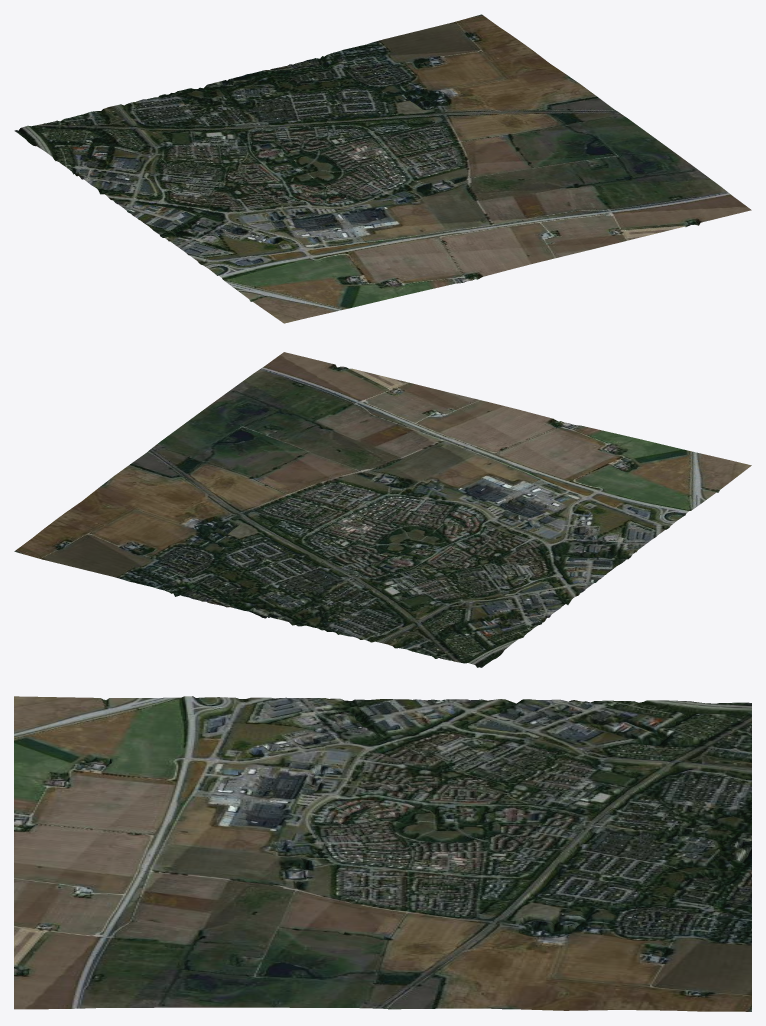
File: map_10_257_430.dae
3 renders of one model, top to bottom at view 1: azimuth 30°, elevation 25°; view 2: azimuth 150°, elevation 25°; view 3: azimuth 270°, elevation 25°, orthographic. The views are drawn at different scales.
Visible parts, largest first — view 1: Ter0; view 2: Ter0; view 3: Ter0.
Part boxes in pixels (left/top/right/bottom): Ter0: left=14, top=14, right=751, bottom=323; Ter0: left=14, top=352, right=751, bottom=667; Ter0: left=14, top=696, right=751, bottom=1011.
Bounding box in the file's own units: 2044 × 2044 × 45.24.
3 materials, 3 textured.
